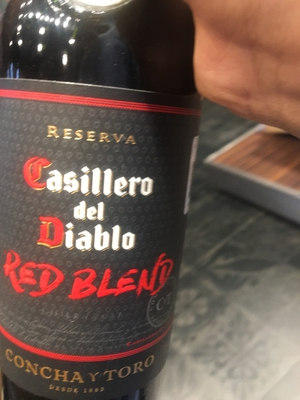casillero del diablo red blend: (1, 14, 207, 400)
